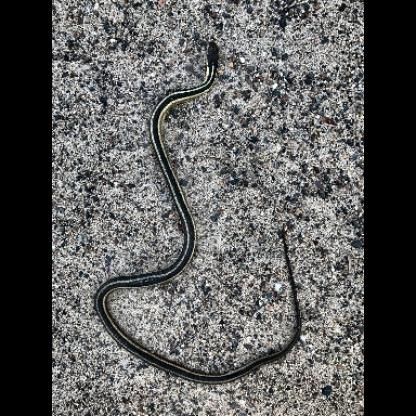Snake: (87, 274, 317, 391), (146, 36, 231, 276)
